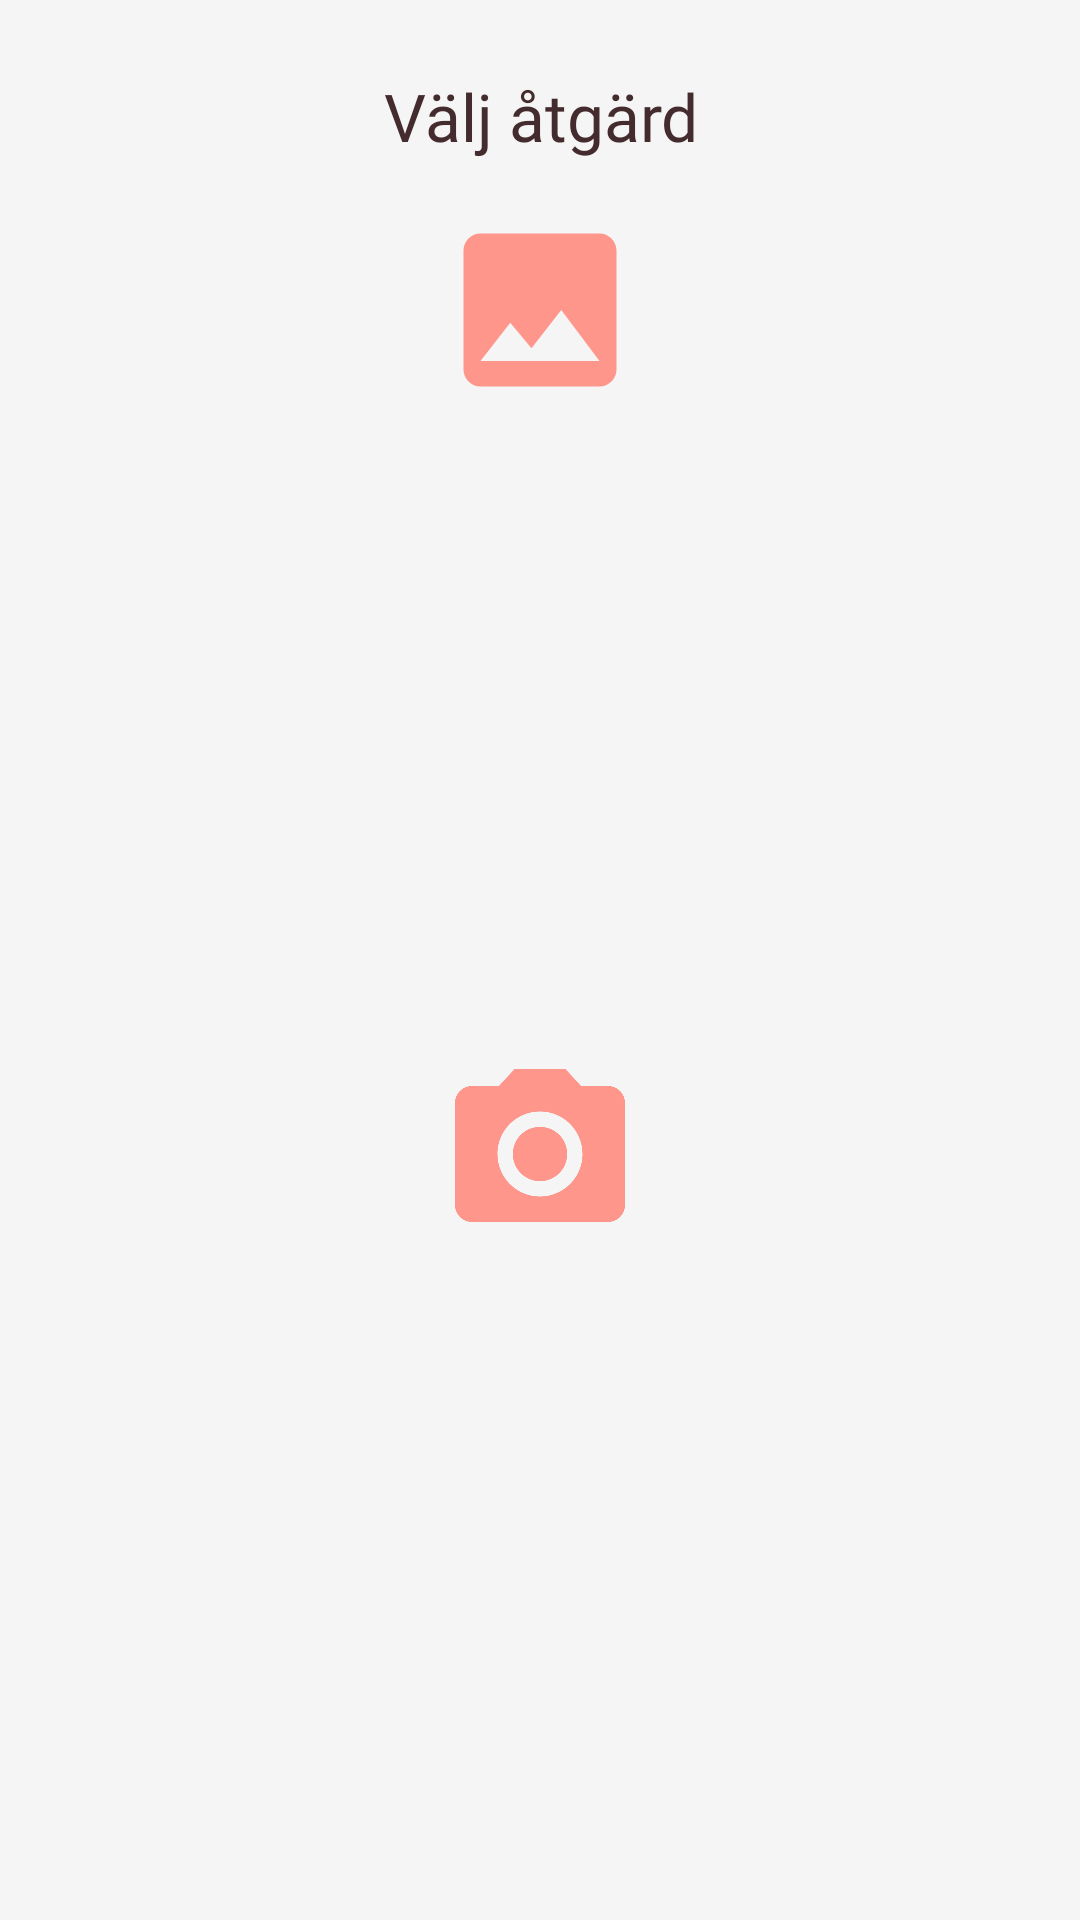

Icon click points for this 1080×1920 phone screenshot, format (x=x, y=y):
Använd kameran för att ta bild: (x=540, y=1145)
Välj bild från galleriet: (x=540, y=310)
